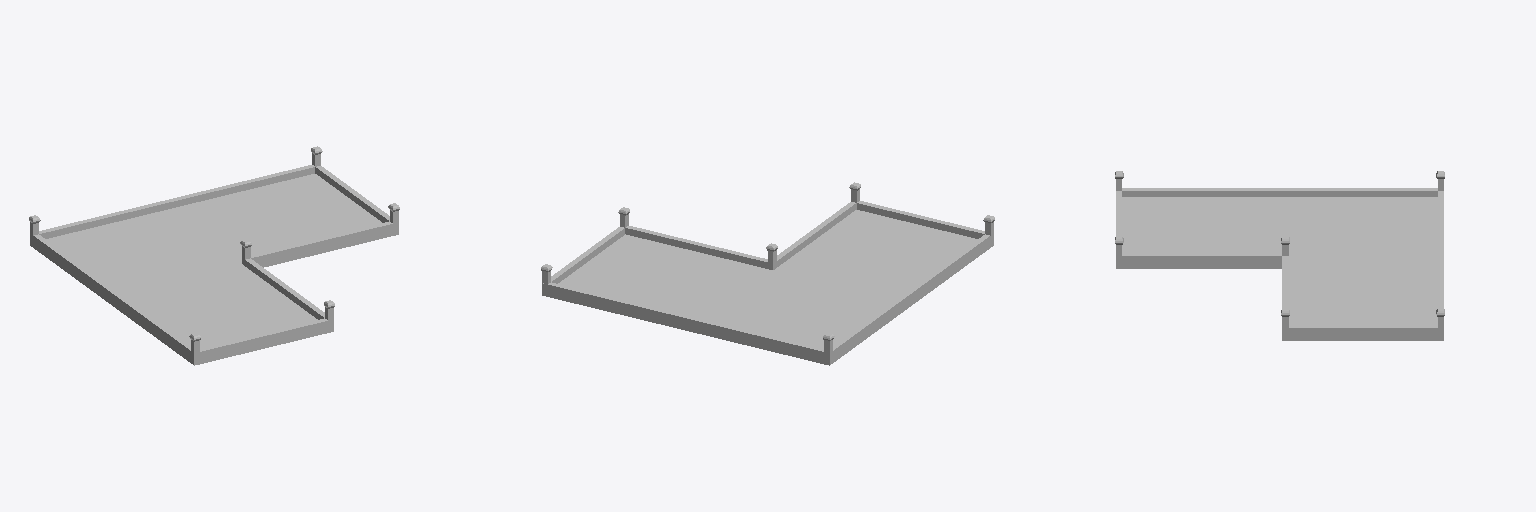
File: LShapeWalledRooftop 1.obj
The picture shows the model from 3 angles: view 1: azimuth 30°, elevation 25°; view 2: azimuth 150°, elevation 25°; view 3: azimuth 270°, elevation 25°; orthographic projection.
Visible parts, largest first — view 1: Mesh; view 2: Mesh; view 3: Mesh.
Part boxes in pixels (bbox=[...]): Mesh: bbox=[29, 146, 399, 365]; Mesh: bbox=[541, 182, 994, 365]; Mesh: bbox=[1115, 171, 1444, 340].
Bounding box in the file's own units: 51.88 × 5.02 × 51.27.